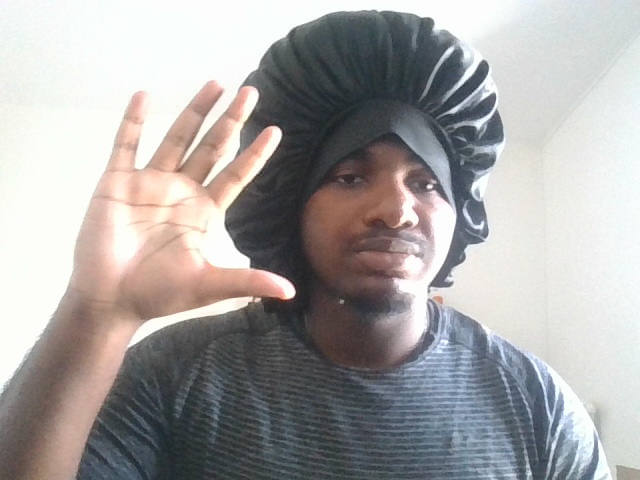Hello: (73, 70, 297, 316)
